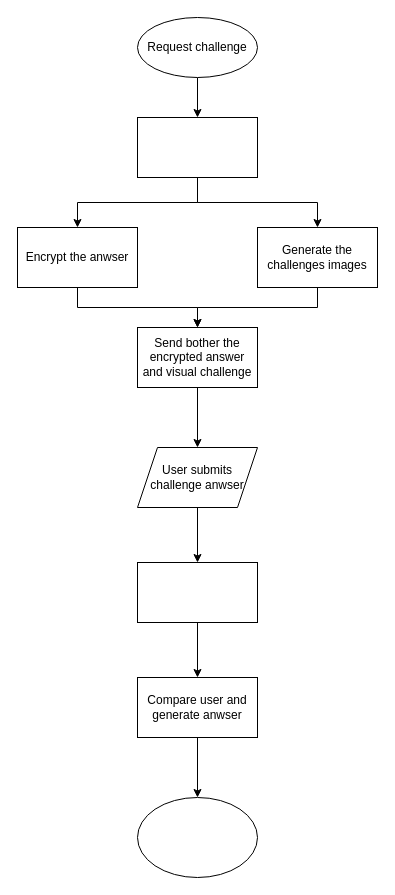
This 395x895 diagram has some shape labels left out. Each missing label, with the centre of its shape:
"Generate a dynamic challenge" goes at (x=197, y=147).
"Return boolean" goes at (x=197, y=837).
"Unencrypted generated answer" goes at (x=197, y=592).
